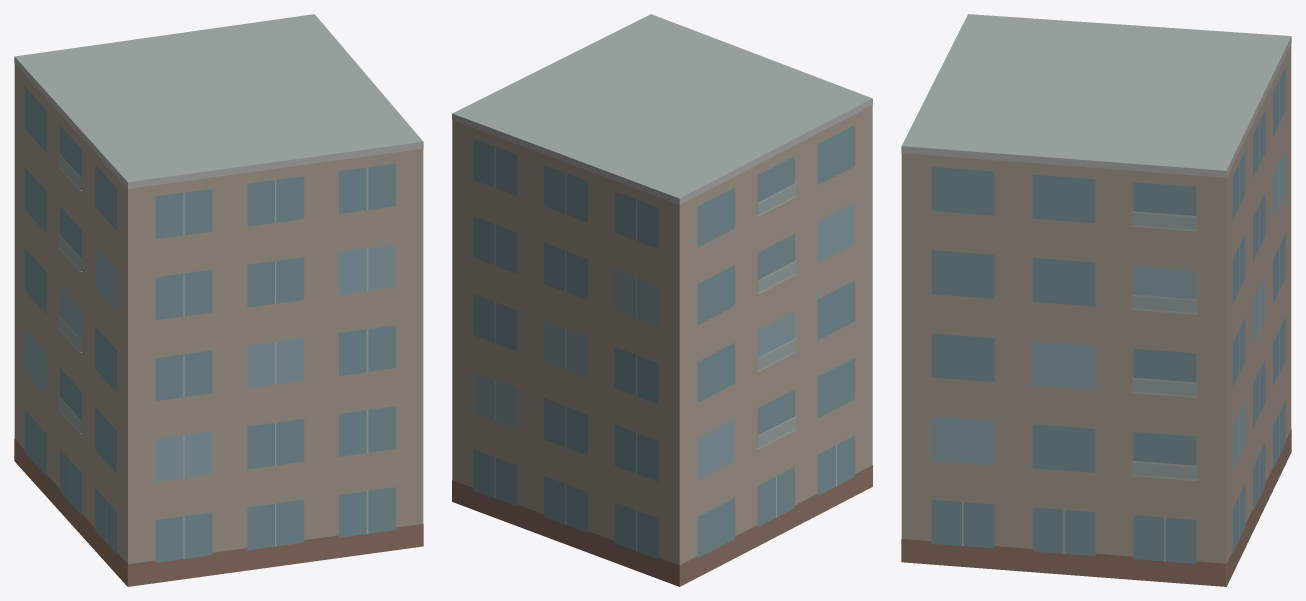
Rendered from survey-upis-32537522.glb.
3 renders of one model, left to right at view 1: azimuth 30°, elevation 25°; view 2: azimuth 150°, elevation 25°; view 3: azimuth 270°, elevation 25°, orthographic. The views are drawn at different scales.
Parts seen in each view (by area): view 1: survey-upis-32537522.tmp; view 2: survey-upis-32537522.tmp; view 3: survey-upis-32537522.tmp.
Part boxes in pixels (x1,y1,x2,y2): survey-upis-32537522.tmp: [14, 14, 423, 586]; survey-upis-32537522.tmp: [452, 14, 872, 586]; survey-upis-32537522.tmp: [901, 14, 1291, 586].
Bounding box in the file's own units: 11.77 × 14.55 × 12.37.
